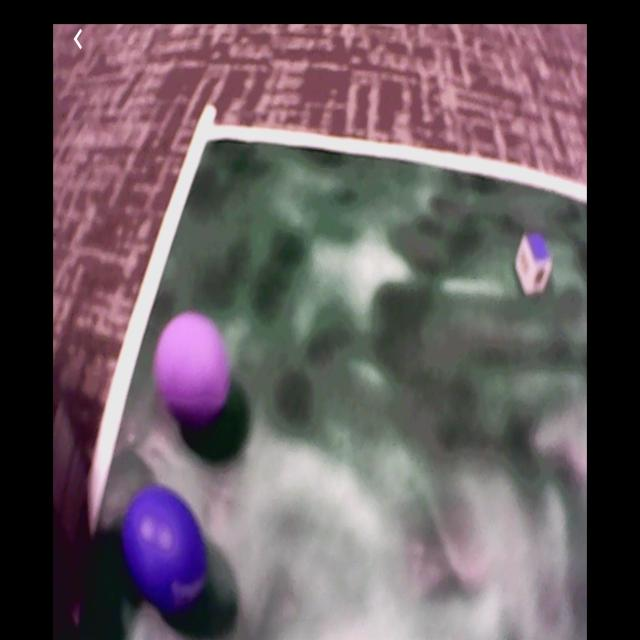ball: (126, 491, 209, 615), (156, 313, 229, 424)
